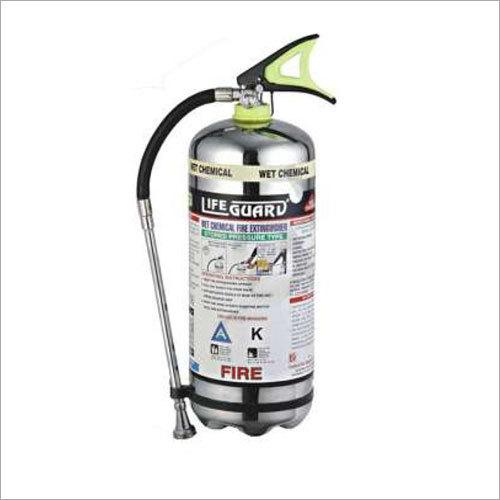Fire Extinguisher: (129, 27, 340, 459)
